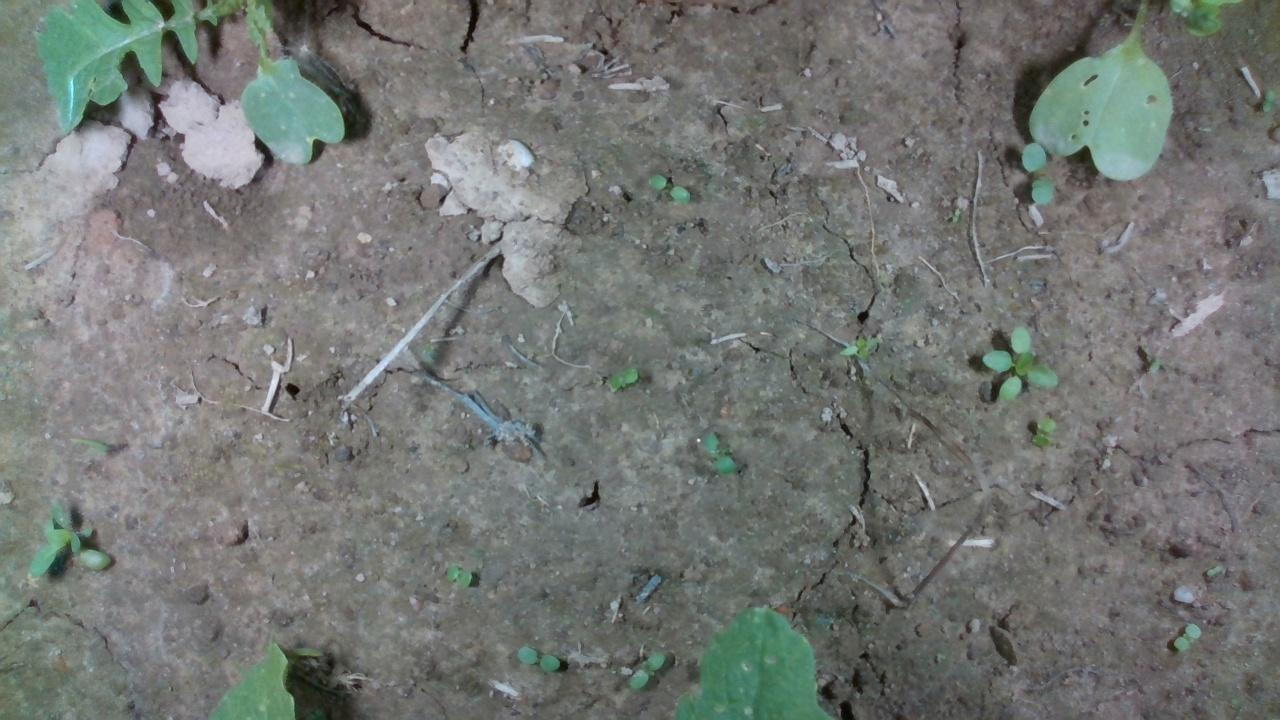weed: (699, 428, 736, 473), (627, 650, 664, 689), (647, 172, 690, 203), (515, 643, 560, 672), (1028, 414, 1055, 449), (1171, 621, 1201, 652), (605, 368, 638, 389), (443, 565, 471, 585), (1204, 563, 1222, 578)
